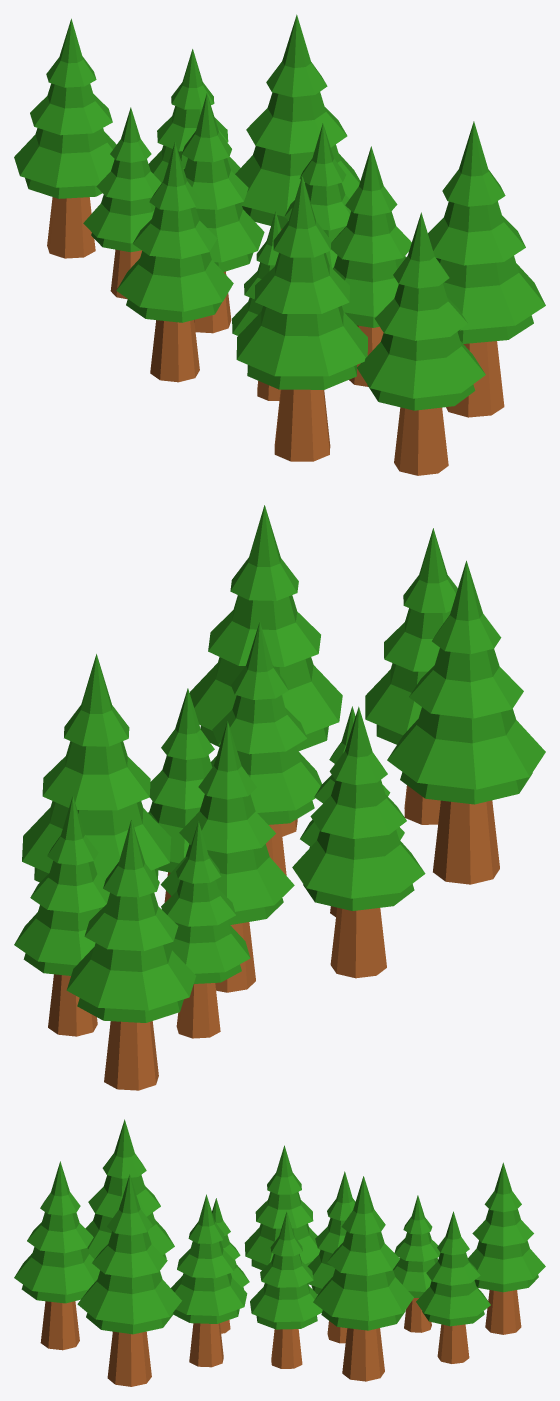
Rendered from trees.fbx.
3 renders of one model, top to bottom at view 1: azimuth 30°, elevation 25°; view 2: azimuth 150°, elevation 25°; view 3: azimuth 270°, elevation 25°, orthographic. The views are drawn at different scales.
Visible parts, largest first — view 1: Cube.002; view 2: Cube.002; view 3: Cube.002.
Boxes of the visible parts, x1,y1,x2,y2 form: Cube.002: (14, 14, 545, 475); Cube.002: (14, 505, 545, 1090); Cube.002: (14, 1119, 545, 1386).
Bounding box in the file's own units: 732 × 1554 × 657.
